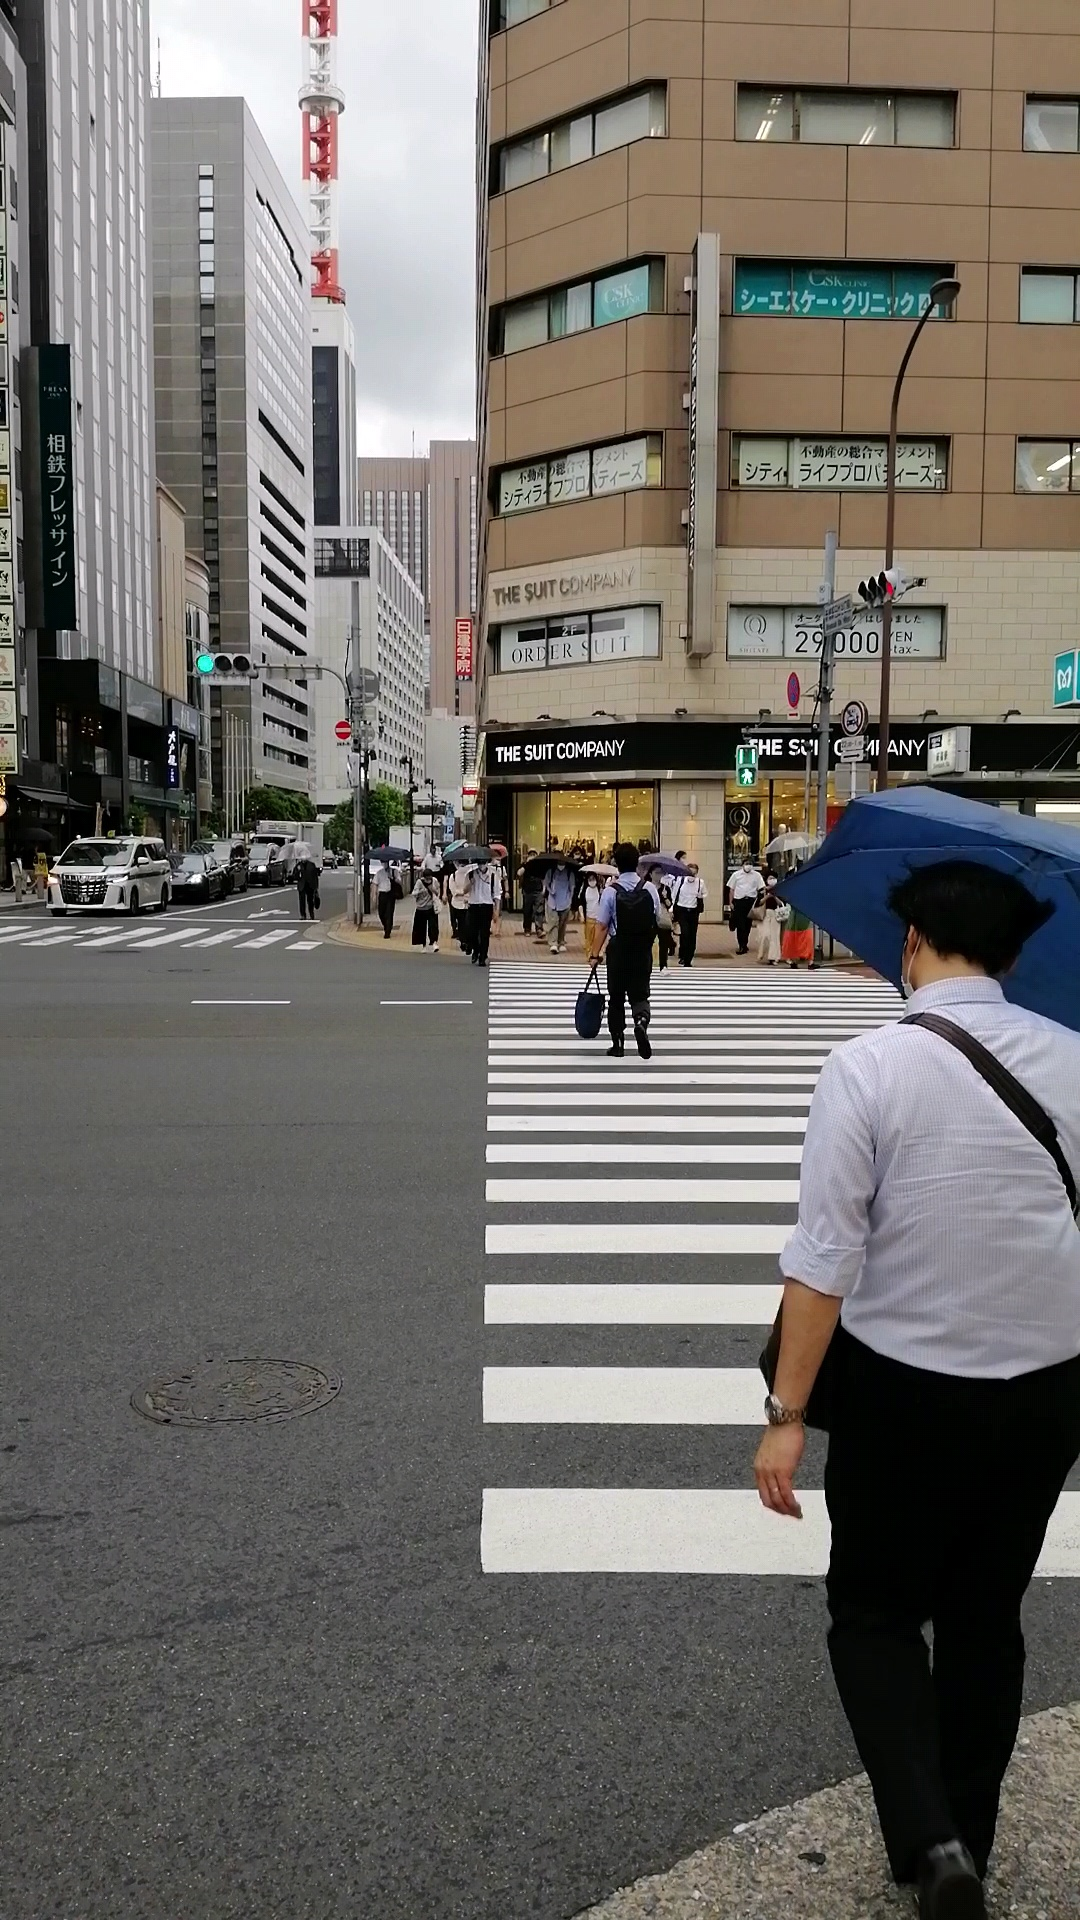green: (733, 744, 758, 789)
